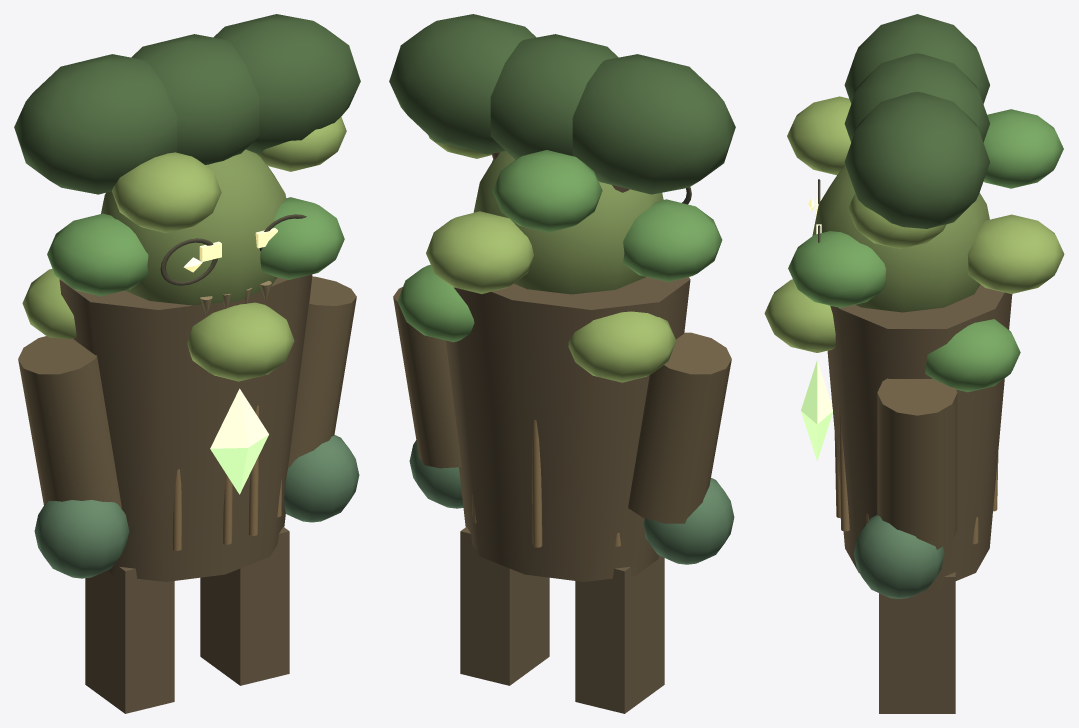
The model's file is enemy-treant.glb.
3 views of the same model, side by side, from view 1: azimuth 30°, elevation 25°; view 2: azimuth 150°, elevation 25°; view 3: azimuth 270°, elevation 25° (orthographic). The views are drawn at different scales.
Visible parts, largest first — view 1: Body, Arm0, Arm1, Leg0, Leg1; view 2: Body, Arm0, Leg0, Leg1, Arm1; view 3: Body, Arm1, Leg1.
Boxes of the visible parts, left/top/right/bottom form: Body: left=14, top=14, right=360, bottom=581; Arm0: left=18, top=336, right=129, bottom=578; Arm1: left=284, top=276, right=359, bottom=522; Leg0: left=85, top=566, right=174, bottom=713; Leg1: left=200, top=527, right=289, bottom=685; Body: left=389, top=14, right=735, bottom=581; Arm0: left=628, top=332, right=734, bottom=564; Leg0: left=575, top=555, right=664, bottom=713; Leg1: left=460, top=527, right=549, bottom=685; Arm1: left=393, top=287, right=463, bottom=508; Body: left=764, top=14, right=1064, bottom=587; Arm1: left=853, top=378, right=957, bottom=598; Leg1: left=879, top=572, right=955, bottom=713.
Bounding box in the file's own units: 2.02 × 3.7 × 1.65.
